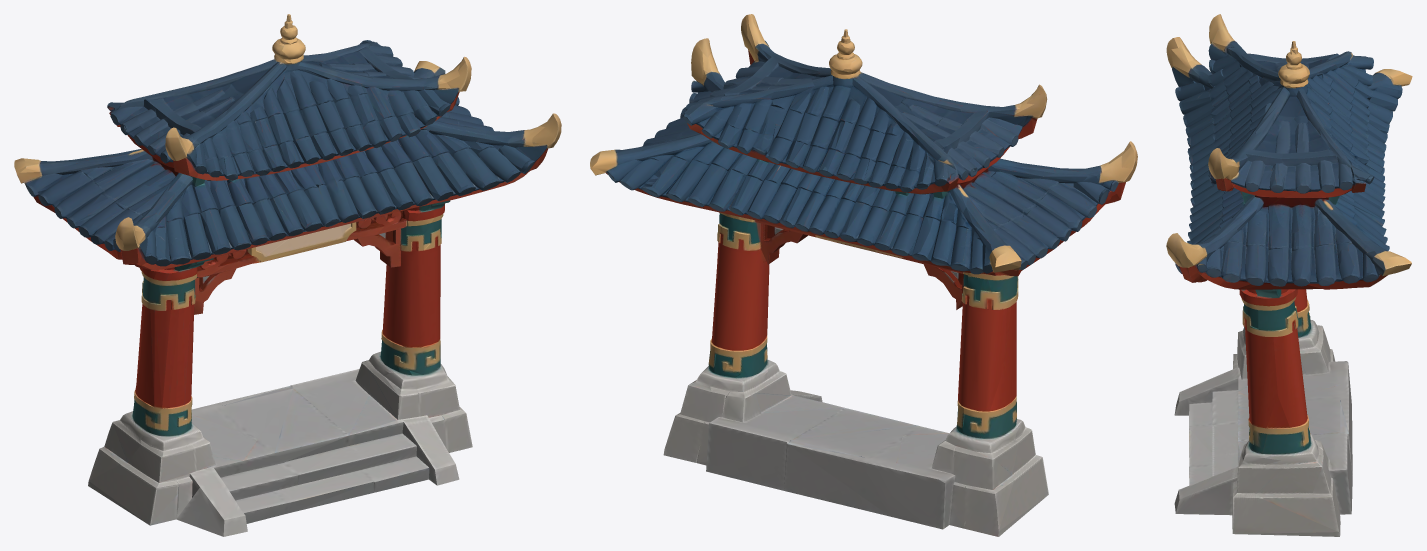
The model's file is gate-pavilion.glb.
The picture shows the model from 3 angles, left to right: view 1: azimuth 30°, elevation 25°; view 2: azimuth 150°, elevation 25°; view 3: azimuth 270°, elevation 25°; orthographic projection. The views are drawn at different scales.
Bounding box in the file's own units: 1.9 × 1.83 × 0.9663.
1 material, 1 textured.
